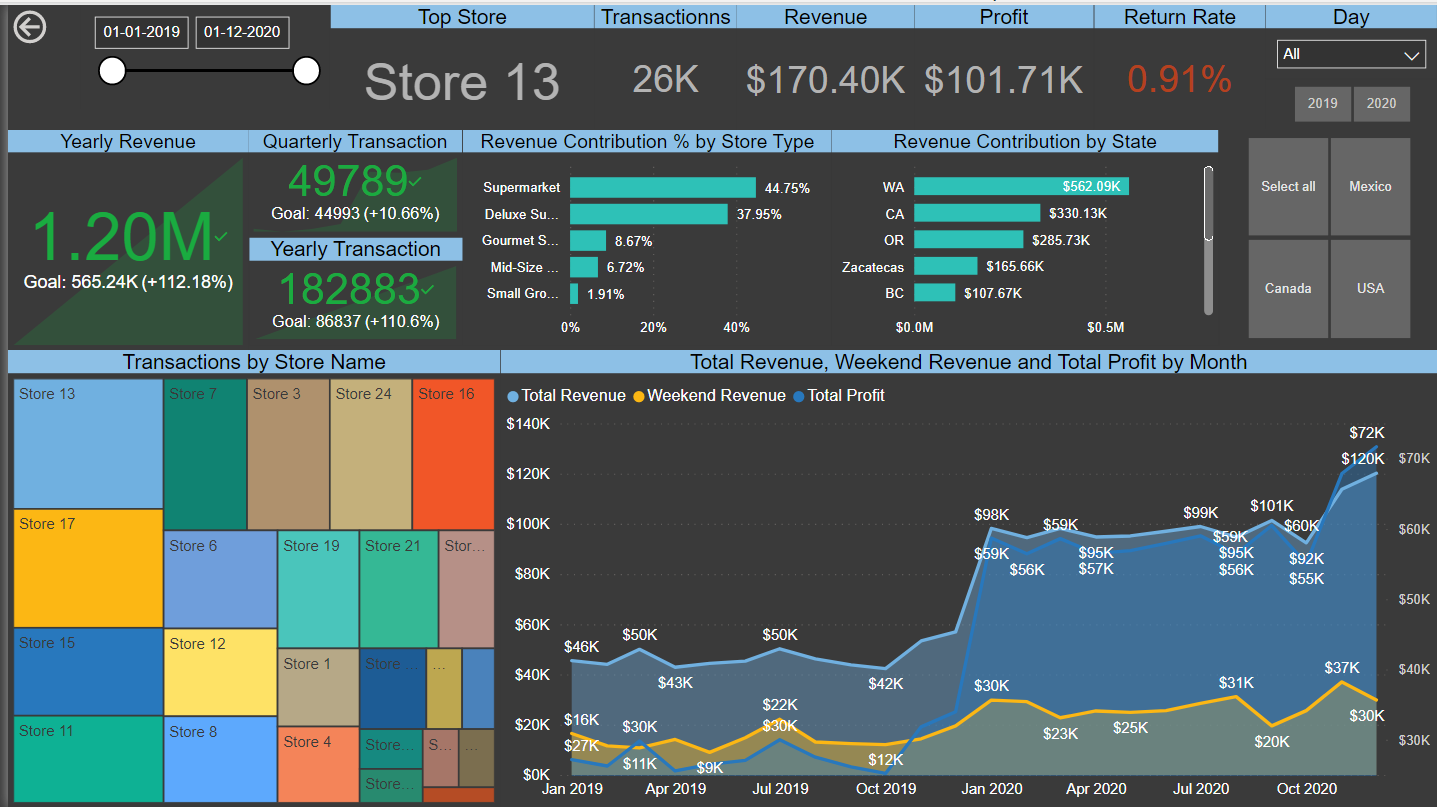

The page's visual inventory and layout, read from the dashboard file:
{"tool":"powerbi","page":{"name":"Store Level","canvas":[1280,720],"ordinal":3},"visuals":[{"type":"card","title":"Top Store","fields":{"Values":["Min(StoresLookup.store_name)"]},"box":[288.6,0,236.2,111.7],"z":0},{"type":"card","title":"Transactionns","fields":{"Values":["SalesData.Total Sales Transactions"]},"box":[524.8,0,128,110.5],"z":1000},{"type":"card","title":"Revenue","fields":{"Values":["SalesData.Total Revenue"]},"box":[652.8,0,159.4,111.7],"z":2000},{"type":"card","title":"Profit","fields":{"Values":["SalesData.Total Profit"]},"box":[812.2,0,160.6,111.7],"z":3000},{"type":"card","title":"Return Rate","fields":{"Values":["ReturnData.Return Rate"]},"box":[972.8,0,153.6,110.5],"z":4000},{"type":"kpi","title":"Quarterly Transaction","fields":{"Indicator":["SalesData.Total Sales Transactions"],"TrendLine":["CalendarLookup.Start of Quarter"],"Goal":["SalesData.Last QTD Transaction"]},"box":[215.3,111.7,192,96.6],"z":5000},{"type":"kpi","title":"Yearly Revenue","fields":{"TrendLine":["CalendarLookup.Year"],"Indicator":["SalesData.YTD Revenue"],"Goal":["SalesData.Last Year YTD Revenue"]},"box":[0,111.7,215.3,197.8],"z":6000},{"type":"kpi","title":"Yearly Transaction","fields":{"Indicator":["SalesData.YTD Transaction"],"Goal":["SalesData.Last YTD Transaction"],"TrendLine":["CalendarLookup.Year"]},"box":[216.4,208.3,190.8,96.6],"z":7000},{"type":"treemap","title":"Transactions by Store Name","fields":{"Group":["StoresLookup.store_name"],"Values":["SalesData.Total Sales Transactions"]},"box":[0,309.5,441,410.8],"z":8000},{"type":"clusteredBarChart","title":"Revenue Contribution % by Store Type","fields":{"Category":["StoresLookup.store_type"],"Y":["SalesData.% Revenue Contribution"]},"box":[407.3,111.7,330.5,193.2],"z":9000},{"type":"actionButton","box":[0,0,65.2,39.6],"z":10000},{"type":"areaChart","title":"Total Revenue, Weekend Revenue and Total Profit by Month","fields":{"Category":["CalendarLookup.Start of Month"],"Y":["SalesData.Total Revenue","SalesData.Weekend Revenue"],"Y2":["SalesData.Total Profit"]},"box":[441,309.5,839,410.8],"z":11000},{"type":"slicer","title":"Day","fields":{"Values":["Days.Day"]},"box":[1126.4,0,153.6,66.3],"z":12000},{"type":"slicer","fields":{"Values":["CalendarLookup.Start of Month"]},"box":[65.2,0,223.4,93.1],"z":13000},{"type":"clusteredBarChart","title":"Revenue Contribution by State","fields":{"Category":["StoresLookup.store_state"],"Y":["SalesData.Total Revenue"]},"box":[737.7,111.7,346.8,193.2],"z":14000},{"type":"slicer","fields":{"Values":["StoresLookup.store_country"]},"box":[1084.5,111.7,195.5,193.2],"z":15000},{"type":"slicer","fields":{"Values":["CalendarLookup.Year"]},"box":[1126.4,66.3,153.6,45.4],"z":16000}]}

Visuals, with their boxes in screenshot pixels (x1, y1, x2, y2), scaled from the page's 1280x720 canvas onto the 1437x807 screenshot:
"Top Store" card: box=[324, 0, 589, 125]
"Transactionns" card: box=[589, 0, 733, 124]
"Revenue" card: box=[733, 0, 912, 125]
"Profit" card: box=[912, 0, 1092, 125]
"Return Rate" card: box=[1092, 0, 1265, 124]
"Quarterly Transaction" kpi: box=[242, 125, 457, 233]
"Yearly Revenue" kpi: box=[0, 125, 242, 347]
"Yearly Transaction" kpi: box=[243, 233, 457, 342]
"Transactions by Store Name" treemap: box=[0, 347, 495, 806]
"Revenue Contribution % by Store Type" clusteredBarChart: box=[457, 125, 828, 342]
actionButton: box=[0, 0, 73, 44]
"Total Revenue, Weekend Revenue and Total Profit by Month" areaChart: box=[495, 347, 1436, 806]
"Day" slicer: box=[1265, 0, 1436, 74]
slicer - CalendarLookup.Start of Month: box=[73, 0, 324, 104]
"Revenue Contribution by State" clusteredBarChart: box=[828, 125, 1218, 342]
slicer - StoresLookup.store_country: box=[1218, 125, 1436, 342]
slicer - CalendarLookup.Year: box=[1265, 74, 1436, 125]
